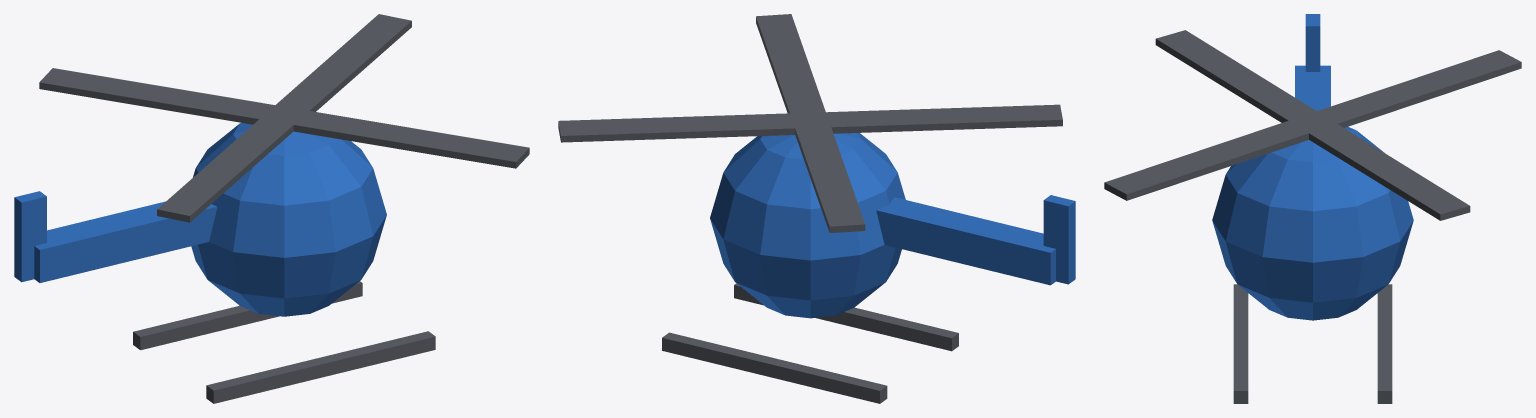
The model's file is helicopter.glb.
3 renders of one model, left to right at view 1: azimuth 30°, elevation 25°; view 2: azimuth 150°, elevation 25°; view 3: azimuth 270°, elevation 25°, orthographic.
Parts seen in each view (by area): view 1: helicopter; view 2: helicopter; view 3: helicopter.
Boxes of the visible parts, x1,y1,x2,y2 form: helicopter: [14, 14, 529, 403]; helicopter: [558, 14, 1075, 403]; helicopter: [1104, 14, 1521, 403].
Bounding box in the file's own units: 0.723 × 0.35 × 0.5794.
